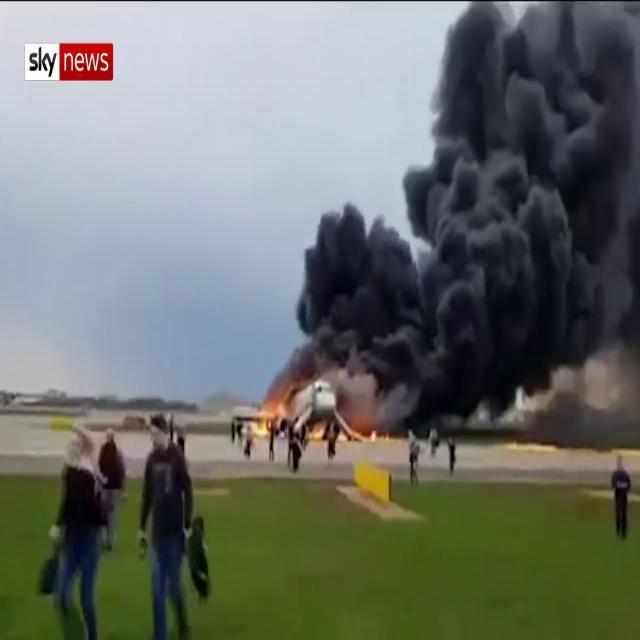Fire: (248, 388, 294, 444)
Smoke: (288, 3, 640, 422)
